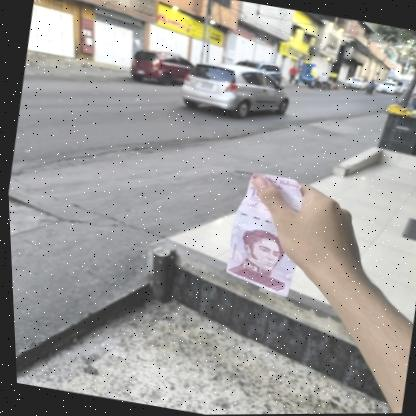one_hundred-front-vef: (216, 168, 308, 299)
